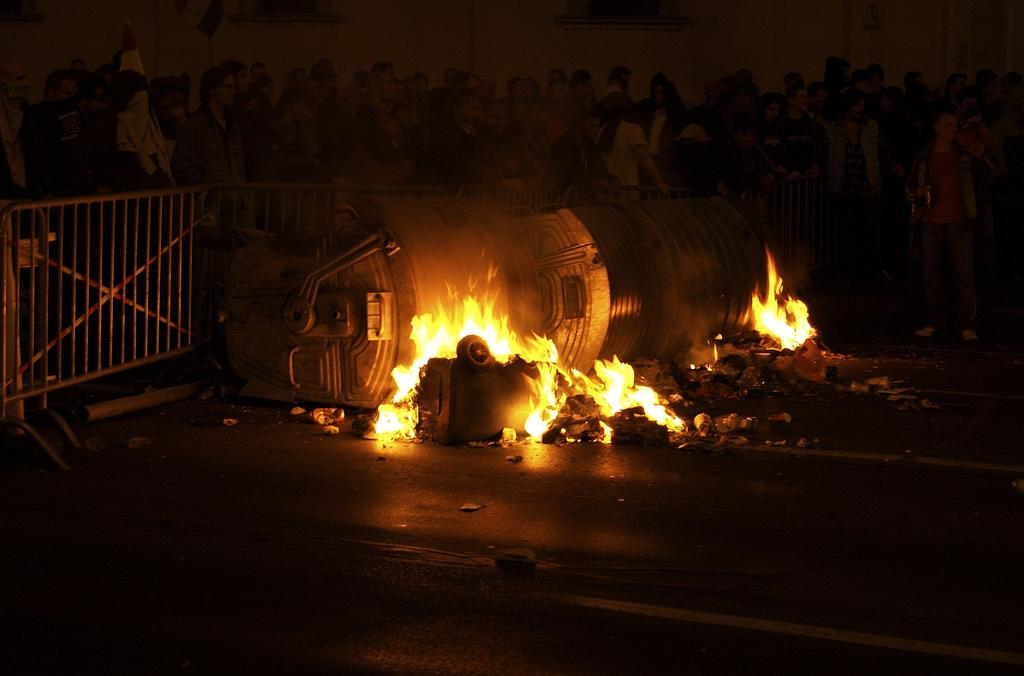fire: (757, 302, 810, 345), (493, 317, 522, 365), (373, 407, 415, 437), (603, 367, 630, 413), (420, 322, 453, 358)
